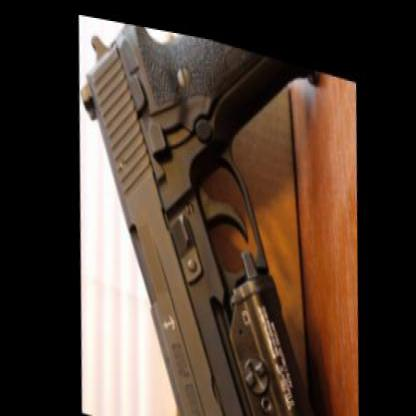pistol: (60, 8, 337, 413)
